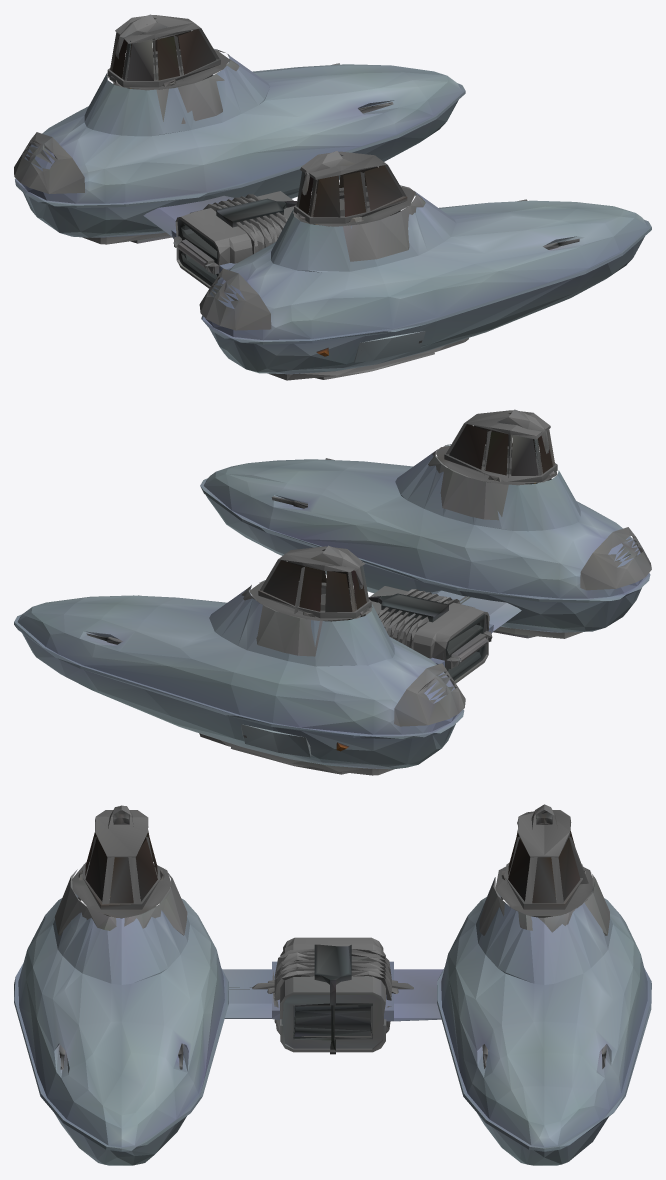
File: cloudcar.glb
3 renders of one model, top to bottom at view 1: azimuth 30°, elevation 25°; view 2: azimuth 150°, elevation 25°; view 3: azimuth 270°, elevation 25°, orthographic. The views are drawn at different scales.
Parts seen in each view (by area): view 1: cloudcar; view 2: cloudcar; view 3: cloudcar.
Part boxes in pixels (<box>): cloudcar: <box>14,14,651,380</box>; cloudcar: <box>14,409,651,775</box>; cloudcar: <box>14,804,651,1165</box>.
Size of the model in its own units: 326 by 149 by 358.
